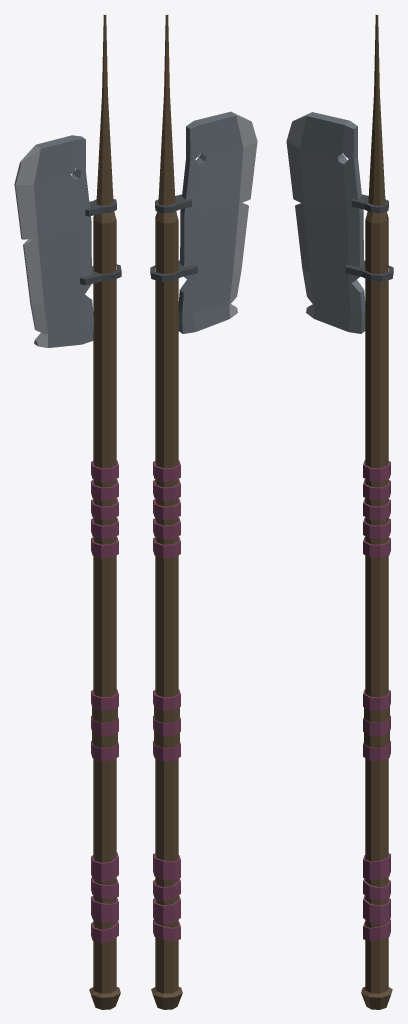
Rendered from PoleArm_C.glb.
3 renders of one model, left to right at view 1: azimuth 30°, elevation 25°; view 2: azimuth 210°, elevation 25°; view 3: azimuth 330°, elevation 25°, orthographic.
Parts seen in each view (by area): view 1: PoleArm_C; view 2: PoleArm_C; view 3: PoleArm_C.
Part boxes in pixels (<box>): PoleArm_C: <box>14,15,121,1009</box>; PoleArm_C: <box>150,15,257,1009</box>; PoleArm_C: <box>286,15,393,1009</box>.
Bounding box in the file's own units: 0.1906 × 1.71 × 0.0515.
1 material, 1 textured.
